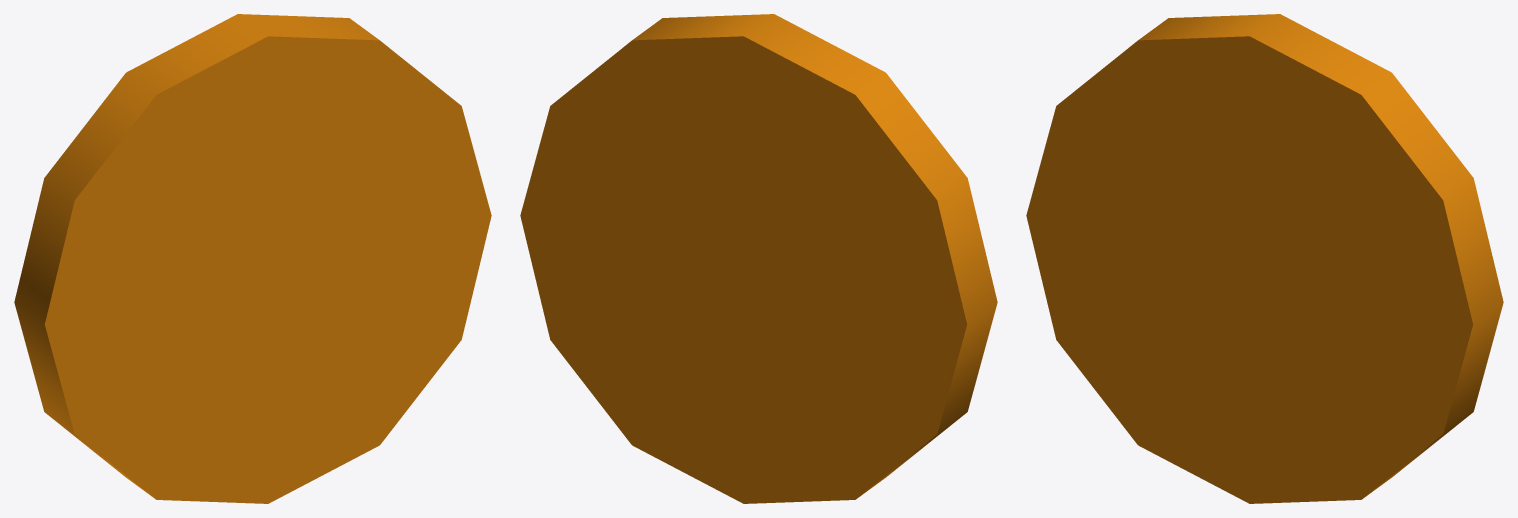
Rendered from coin3d.FBX.
3 views of the same model, side by side, from view 1: azimuth 30°, elevation 25°; view 2: azimuth 150°, elevation 25°; view 3: azimuth 330°, elevation 25° (orthographic).
Parts seen in each view (by area): view 1: coin3d; view 2: coin3d; view 3: coin3d.
Boxes of the visible parts, x1,y1,x2,y2 form: coin3d: (14, 14, 491, 503); coin3d: (520, 14, 997, 503); coin3d: (1026, 14, 1503, 503).
Bounding box in the file's own units: 79.22 × 79.22 × 9.36.
